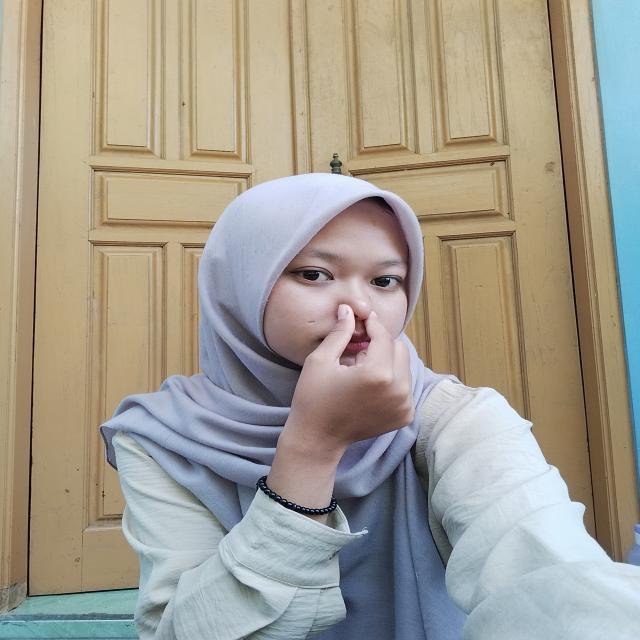bau: (293, 288, 430, 443)
